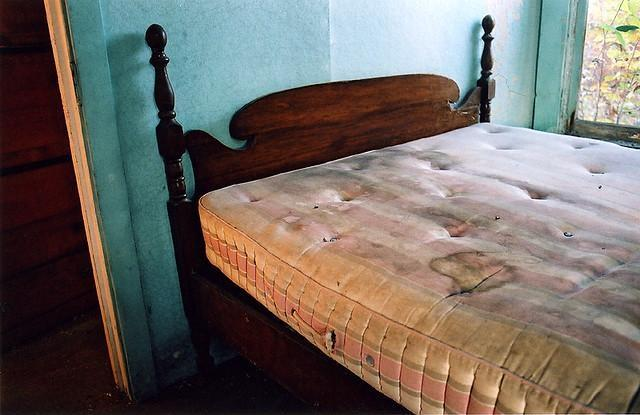Bed-Mattress: (184, 107, 640, 415)
